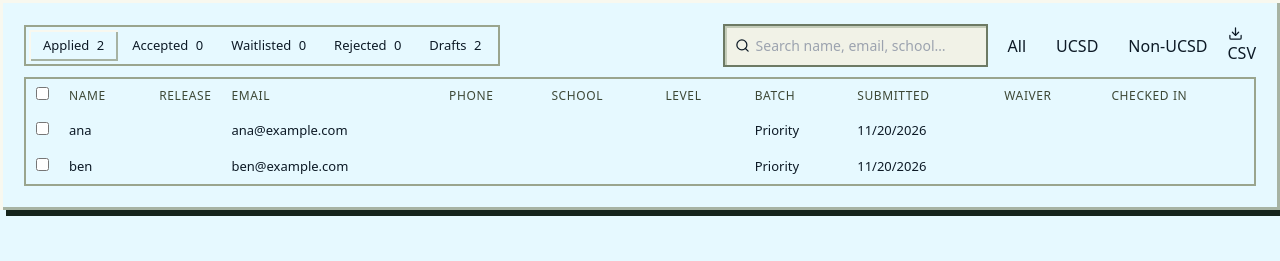
Test: drafts in the console › aren't in Applied: they have their own Drafts tab, labelled Draft
Check: the tab "Applied 2" is shown, box x1=29 y1=30 x2=118 y2=61
Check: the tab "Accepted 0" is shown, box x1=118 y1=30 x2=217 y2=61
Click the tab "Drafts 2" at (455, 46), box x1=415 y1=30 x2=495 y2=61
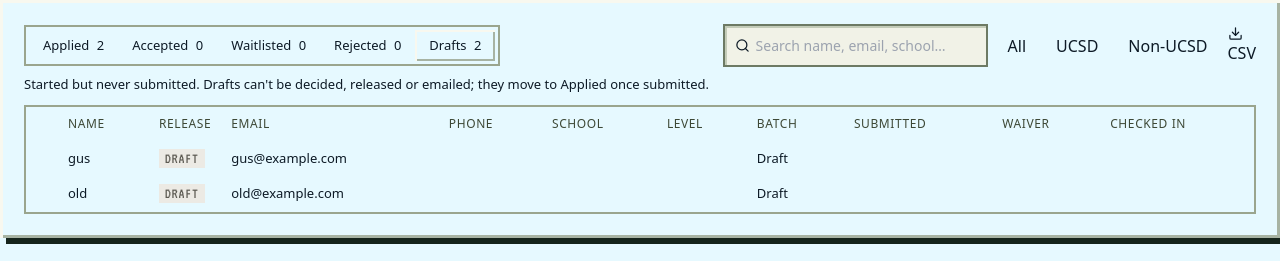
Check: no checkboxes are shown
